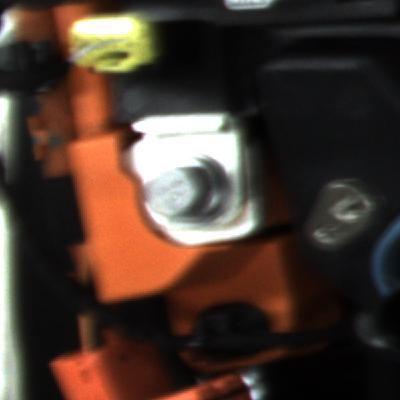nut_b: (143, 156, 236, 230)
